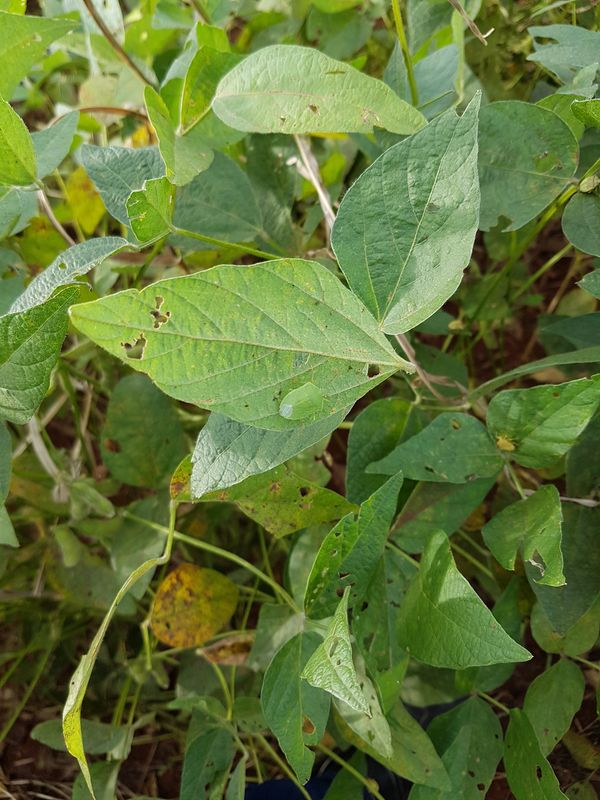Euschistus_heros_ninfa: (481, 423, 528, 466), (561, 159, 600, 208)
Nezara_viridula_adulto: (262, 368, 349, 436)
